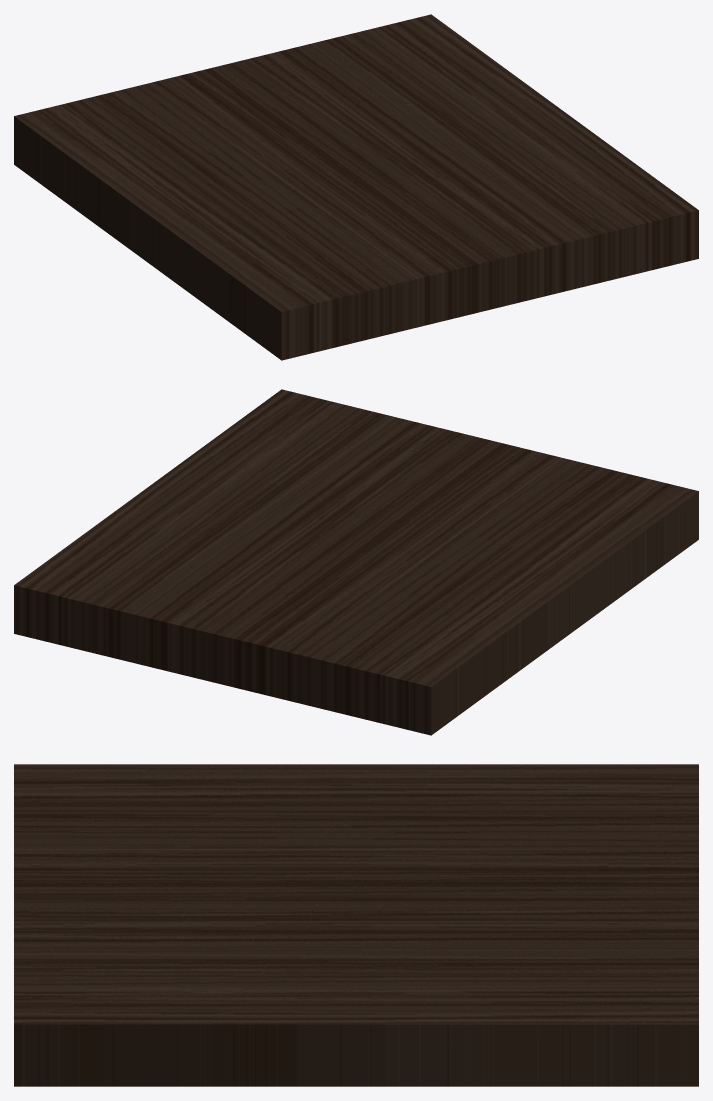
The model's file is wedge_0.glb.
3 views of the same model, one above another, from view 1: azimuth 30°, elevation 25°; view 2: azimuth 150°, elevation 25°; view 3: azimuth 270°, elevation 25° (orthographic). The views are drawn at different scales.
Parts seen in each view (by area): view 1: wedge_0; view 2: wedge_0; view 3: wedge_0.
Boxes of the visible parts, x1=… form: wedge_0: x1=14, y1=14, x2=698, y2=360; wedge_0: x1=14, y1=389, x2=698, y2=735; wedge_0: x1=14, y1=764, x2=698, y2=1086.
Bounding box in the file's own units: 0.36 × 0.04 × 0.4.
Materials: 1 (1 with a texture image).
